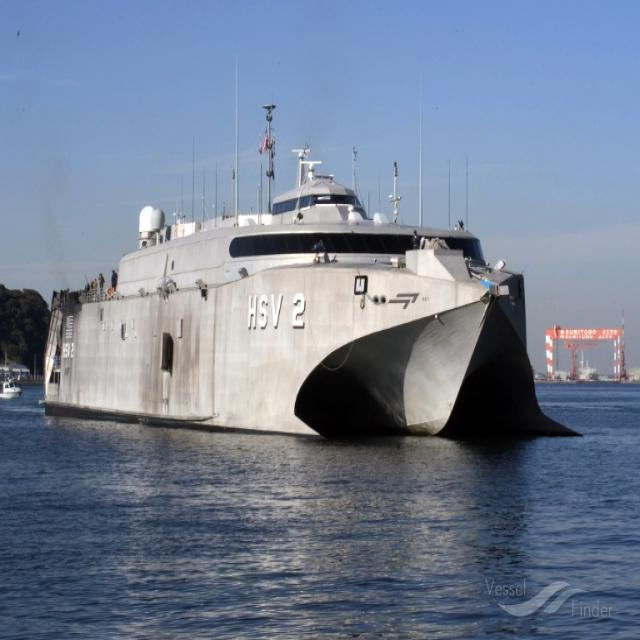OCR: (242, 292, 309, 336)
